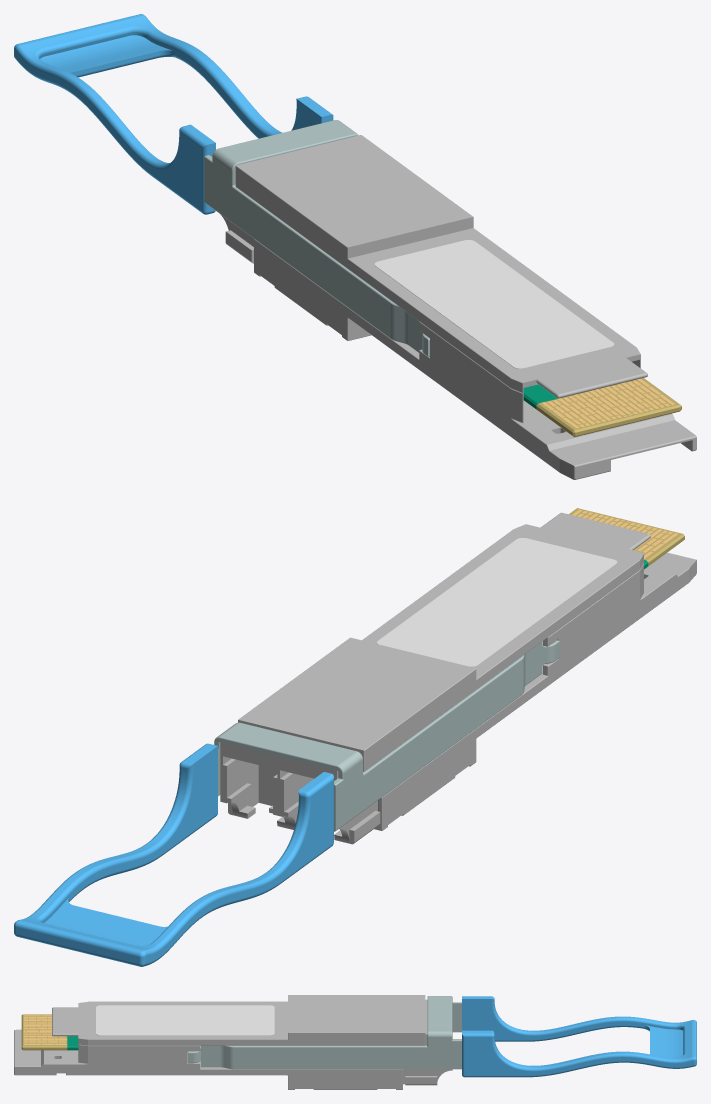
Rendered from QSFP-DD.glb.
3 views of the same model, one above another, from view 1: azimuth 30°, elevation 25°; view 2: azimuth 150°, elevation 25°; view 3: azimuth 270°, elevation 25° (orthographic). The views are drawn at different scales.
Visible parts, largest first — view 1: QSFPDD_base, QSFPDD_clip, QSFPDD, QSFPDD_tin, QSFPDD_chip_golden, QSFPDD_chip_connector; view 2: QSFPDD_base, QSFPDD_clip, QSFPDD, QSFPDD_tin, QSFPDD_chip_golden, QSFPDD_chip_connector; view 3: QSFPDD_base, QSFPDD_clip, QSFPDD_tin, QSFPDD, QSFPDD_chip_golden, QSFPDD_chip_connector, QSFPDD_chip_green.
Boxes of the visible parts, bbox=[...] form: QSFPDD_base: bbox=[220, 135, 696, 479]; QSFPDD_clip: bbox=[14, 14, 333, 214]; QSFPDD: bbox=[374, 240, 614, 368]; QSFPDD_tin: bbox=[204, 120, 429, 356]; QSFPDD_chip_golden: bbox=[536, 378, 681, 437]; QSFPDD_chip_connector: bbox=[541, 378, 675, 428]; QSFPDD_base: bbox=[220, 512, 696, 844]; QSFPDD_clip: bbox=[14, 743, 333, 966]; QSFPDD: bbox=[377, 538, 617, 666]; QSFPDD_tin: bbox=[214, 640, 559, 831]; QSFPDD_chip_golden: bbox=[569, 508, 684, 566]; QSFPDD_chip_connector: bbox=[572, 509, 678, 558]; QSFPDD_base: bbox=[14, 995, 452, 1089]; QSFPDD_clip: bbox=[462, 996, 696, 1077]; QSFPDD_tin: bbox=[187, 996, 461, 1069]; QSFPDD: bbox=[96, 1005, 274, 1035]; QSFPDD_chip_golden: bbox=[21, 1014, 67, 1050]; QSFPDD_chip_connector: bbox=[24, 1015, 67, 1044]; QSFPDD_chip_green: bbox=[67, 1036, 78, 1050].
Size of the model in its own units: 0.0197 by 0.0135 by 0.1453.
